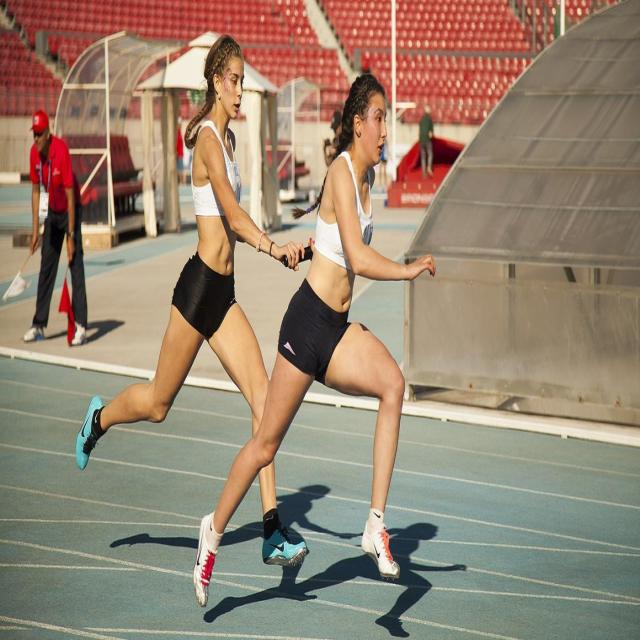running: (76, 31, 288, 480), (300, 68, 437, 579)
